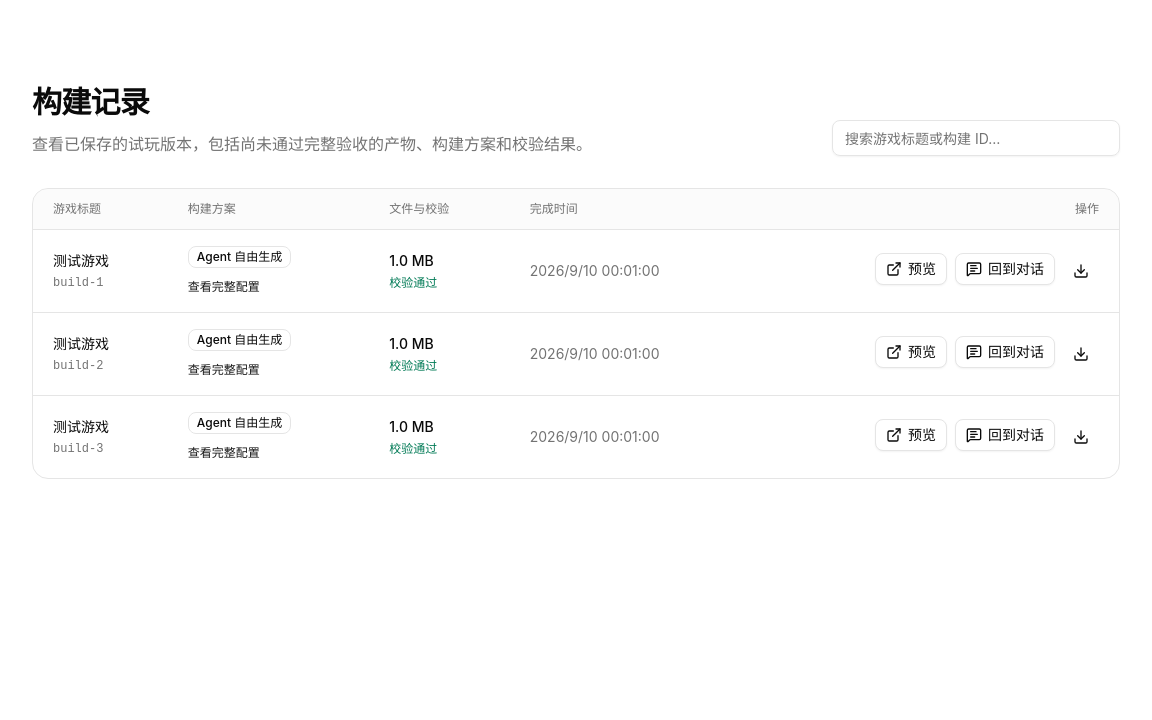
versions page loading › loads build records once without embedded previews and links previews to a new tab
The width and height of the screenshot is (1152, 720).
Expected: the column heading "游戏标题" is shown, [33, 189, 168, 230]
Expected: the 1st text "测试游戏" is shown, [53, 252, 109, 269]
Click the button "查看完整配置" next to "build-1".
click(224, 287)  # box [188, 279, 260, 295]
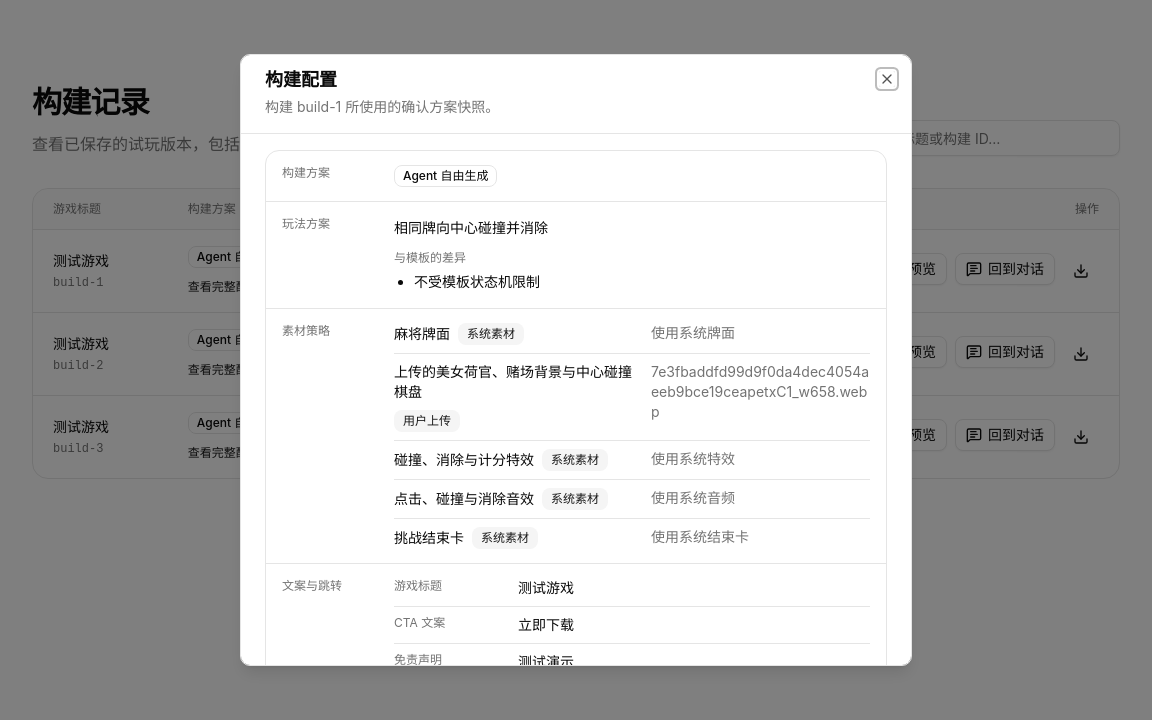
Result: the dialog "构建配置" shows "测试游戏" at [518, 579, 574, 596]
Result: the dialog "构建配置" shows "相同牌向中心碰撞并消除" at [394, 219, 548, 236]
Result: the dialog "构建配置" shows "系统素材" at [467, 326, 515, 341]
